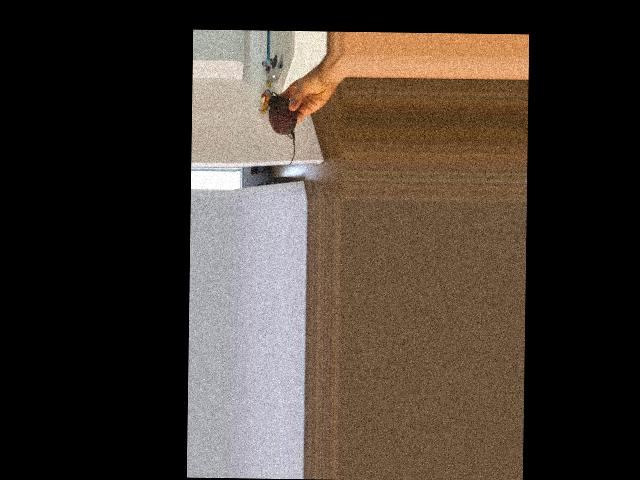beet: (267, 92, 297, 166)
